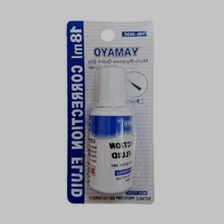book: (66, 19, 156, 204)
correction_fluid: (84, 63, 137, 196)
